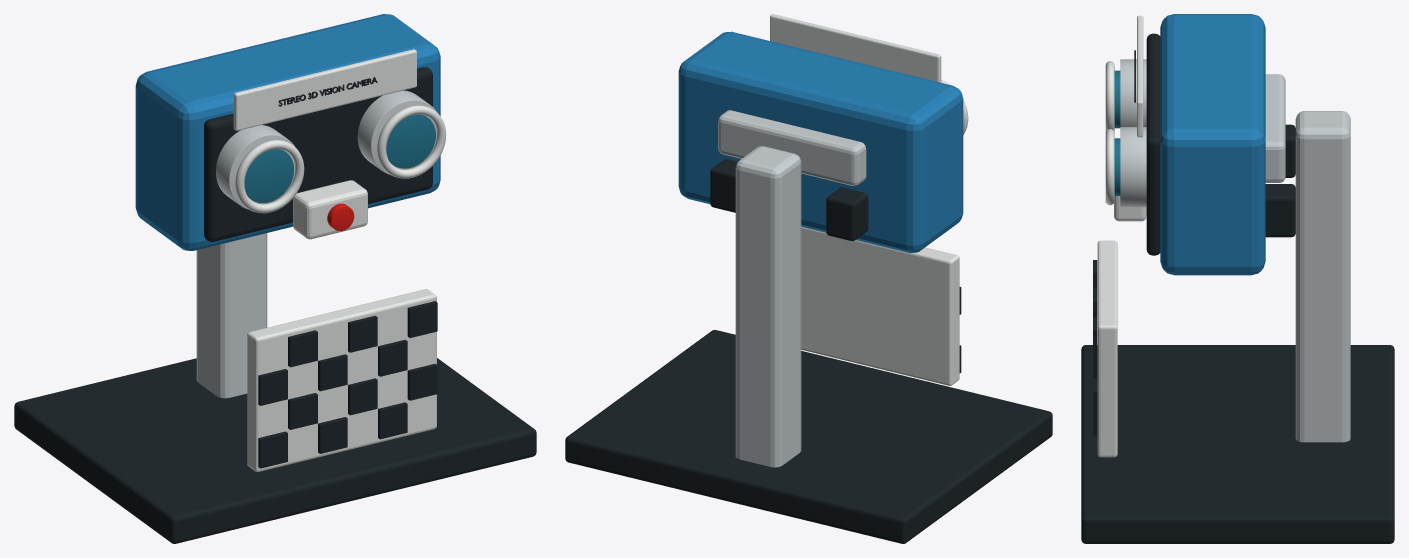
The model's file is industrial_3d_vision_camera.glb.
3 views of the same model, side by side, from view 1: azimuth 30°, elevation 25°; view 2: azimuth 150°, elevation 25°; view 3: azimuth 270°, elevation 25° (orthographic). The views are drawn at different scales.
Visible parts, largest first — view 1: BASE, STEREO_CAMERA_BODY, CALIBRATION_TARGET, FRONT_FACE, FIXED_CAMERA_STAND, VISION_NAMEPLATE, STRUCTURED_LIGHT_PROJECTOR, STEREO_LENS_0.32, STEREO_LENS_-0.32, LENS_GLASS_0.32, LENS_GLASS_-0.32, LED_RING_-0.32 (+13 smaller); view 2: BASE, STEREO_CAMERA_BODY, FIXED_CAMERA_STAND, CALIBRATION_TARGET, ADJUSTABLE_CAMERA_BRACKET, VISION_NAMEPLATE, M12_POWER, M12_ETHERNET; view 3: BASE, STEREO_CAMERA_BODY, FIXED_CAMERA_STAND, CALIBRATION_TARGET, FRONT_FACE, ADJUSTABLE_CAMERA_BRACKET, STEREO_LENS_0.32, M12_ETHERNET, STEREO_LENS_-0.32, VISION_NAMEPLATE, LED_RING_0.32, LED_RING_-0.32 (+4 smaller).
Part boxes in pixels (x1,y1,x2,y2): BASE: [14, 358, 536, 543]; STEREO_CAMERA_BODY: [135, 14, 440, 250]; CALIBRATION_TARGET: [247, 289, 436, 471]; FRONT_FACE: [204, 67, 432, 241]; FIXED_CAMERA_STAND: [196, 233, 267, 398]; VISION_NAMEPLATE: [233, 49, 416, 130]; STRUCTURED_LIGHT_PROJECTOR: [293, 180, 367, 239]; STEREO_LENS_0.32: [357, 90, 436, 174]; STEREO_LENS_-0.32: [216, 125, 294, 209]; LENS_GLASS_0.32: [386, 114, 435, 168]; LENS_GLASS_-0.32: [244, 149, 293, 202]; LED_RING_-0.32: [235, 140, 304, 213]; BASE: [565, 330, 1052, 543]; STEREO_CAMERA_BODY: [678, 31, 963, 252]; FIXED_CAMERA_STAND: [735, 146, 801, 467]; CALIBRATION_TARGET: [801, 226, 959, 385]; ADJUSTABLE_CAMERA_BRACKET: [718, 110, 866, 185]; VISION_NAMEPLATE: [770, 14, 941, 82]; M12_POWER: [826, 187, 868, 241]; M12_ETHERNET: [710, 159, 737, 212]; BASE: [1081, 345, 1394, 543]; STEREO_CAMERA_BODY: [1160, 14, 1265, 275]; FIXED_CAMERA_STAND: [1295, 111, 1350, 442]; CALIBRATION_TARGET: [1097, 240, 1117, 457]; FRONT_FACE: [1146, 33, 1160, 255]; ADJUSTABLE_CAMERA_BRACKET: [1265, 74, 1285, 182]; STEREO_LENS_0.32: [1120, 127, 1146, 207]; M12_ETHERNET: [1265, 184, 1295, 237]; STEREO_LENS_-0.32: [1120, 59, 1146, 126]; VISION_NAMEPLATE: [1137, 15, 1143, 137]; LED_RING_0.32: [1105, 129, 1114, 205]; LED_RING_-0.32: [1105, 61, 1114, 132].
Size of the model in its own units: 1.65 by 1.76 by 1.25.
